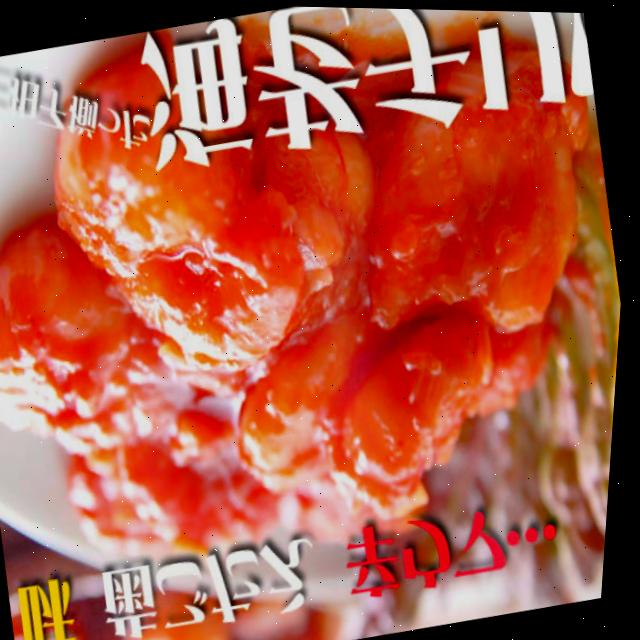熟制海鲜: (0, 95, 635, 579)
